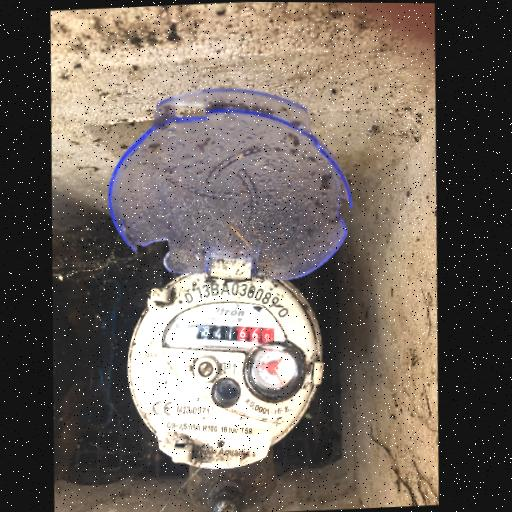0: (186, 322, 201, 340), (261, 327, 275, 345)
1: (224, 325, 236, 341)
4: (212, 324, 226, 340)
6: (236, 325, 250, 342), (248, 326, 262, 343)
8: (199, 323, 214, 340)
border_water_meter_number: (172, 315, 277, 350)
